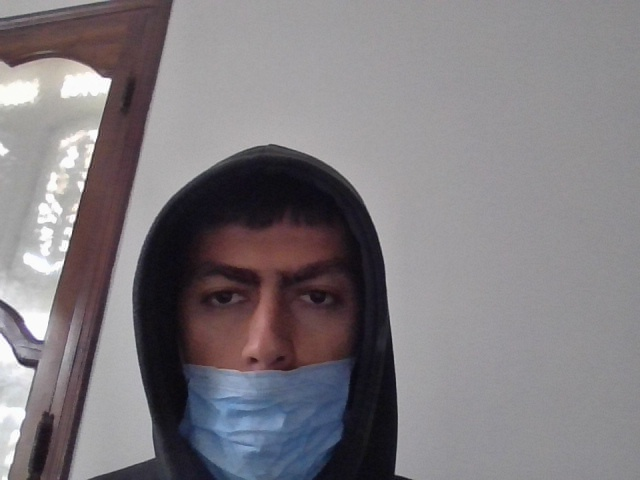mask_weared_incorrect: (176, 199, 354, 479)
